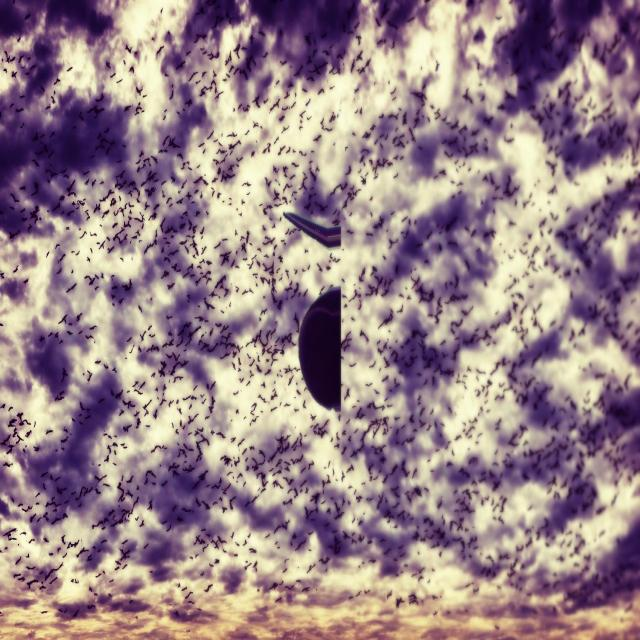airplane: (283, 210, 341, 411)
